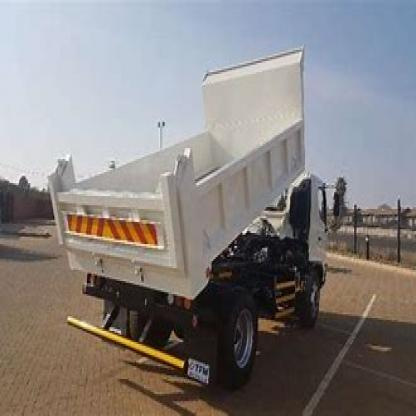dump_truck: (33, 24, 333, 366)
